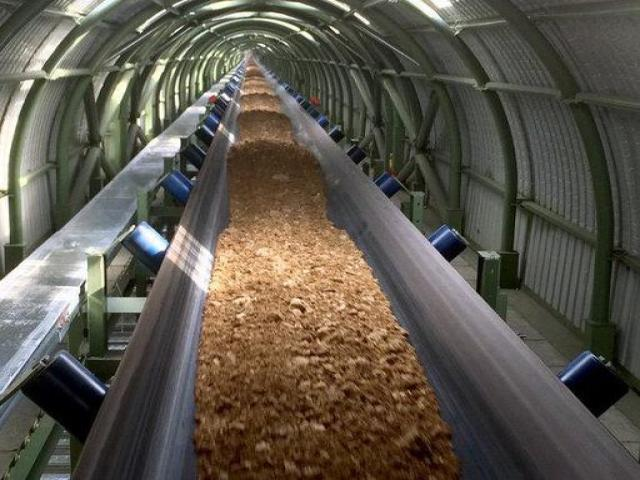conveyor: (91, 52, 579, 480)
